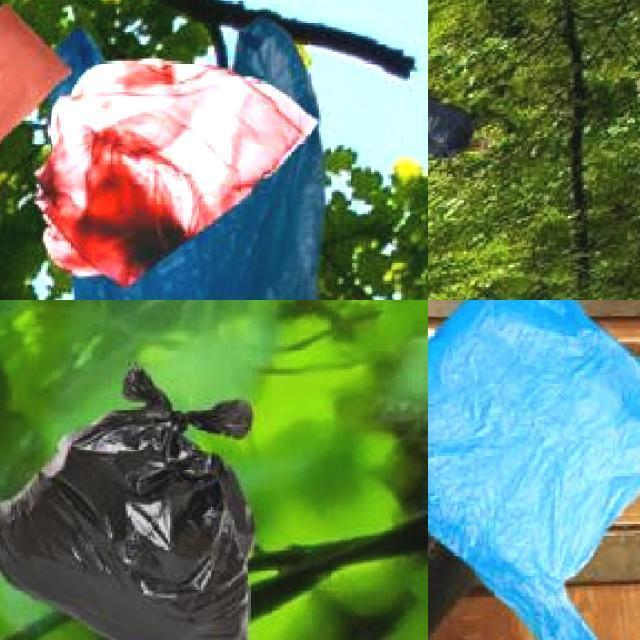waste: (55, 20, 320, 300), (428, 300, 640, 640), (0, 367, 257, 640), (0, 3, 66, 218), (428, 89, 476, 159)
